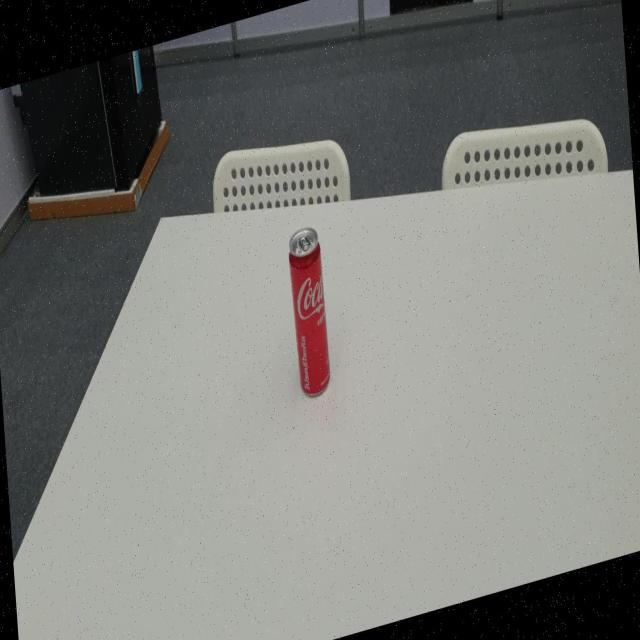coca-cola: (284, 219, 334, 407)
